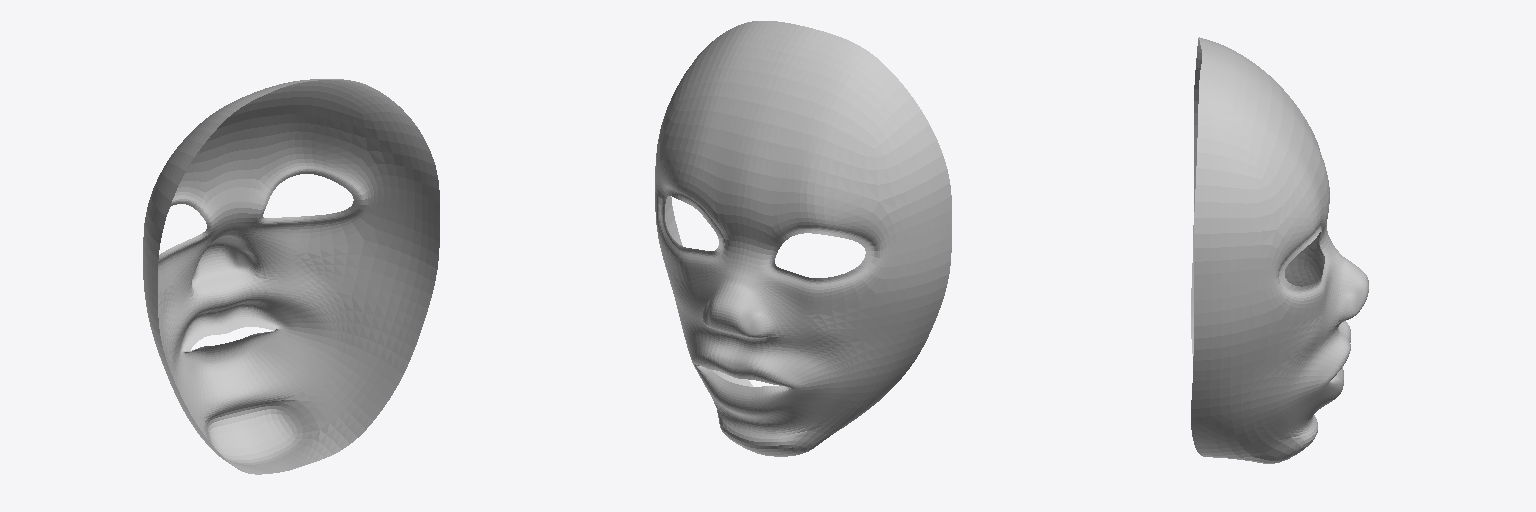
Rendered from mascaraprue2.obj.
3 views of the same model, side by side, from view 1: azimuth 30°, elevation 25°; view 2: azimuth 150°, elevation 25°; view 3: azimuth 270°, elevation 25° (orthographic).
Parts seen in each view (by area): view 1: Cube; view 2: Cube; view 3: Cube.
Boxes of the visible parts, box(x1,y1,x2,y2) form: Cube: box(143, 79, 439, 474); Cube: box(655, 21, 951, 456); Cube: box(1191, 37, 1368, 463).
Size of the model in its own units: 1.51 by 2.06 by 0.828.